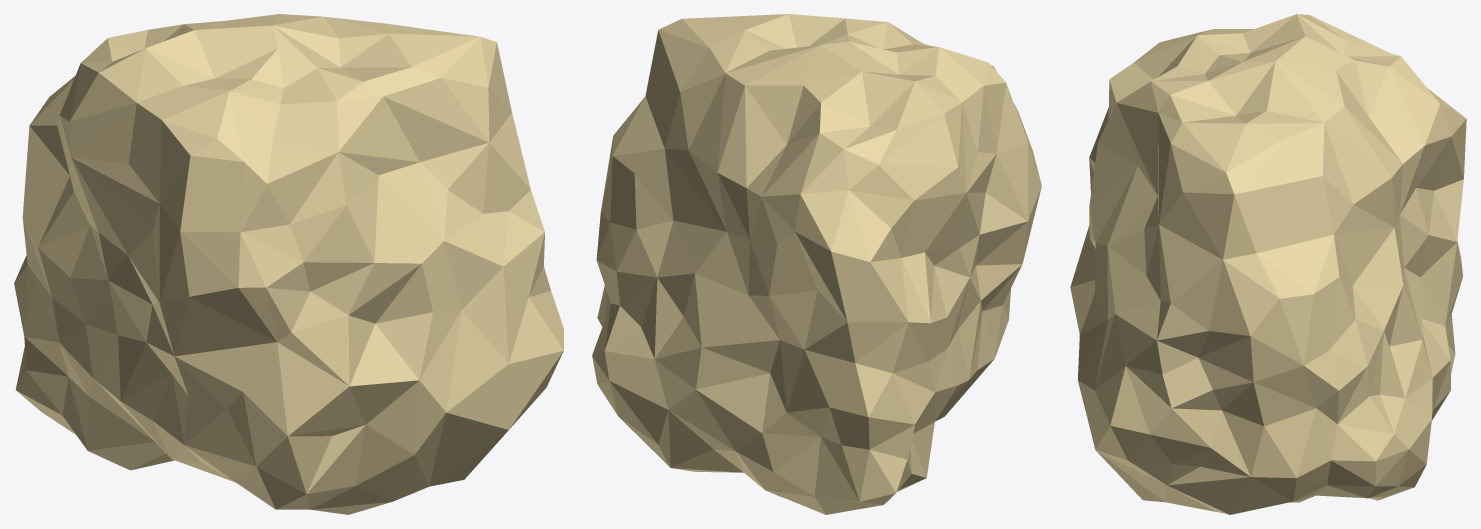
The model's file is Asteroid (42).fbx.
3 renders of one model, left to right at view 1: azimuth 30°, elevation 25°; view 2: azimuth 150°, elevation 25°; view 3: azimuth 270°, elevation 25°, orthographic. The views are drawn at different scales.
Visible parts, largest first — view 1: Asteroid201; view 2: Asteroid201; view 3: Asteroid201.
Boxes of the visible parts, x1=… form: Asteroid201: x1=14, y1=14, x2=563, y2=514; Asteroid201: x1=592, y1=14, x2=1041, y2=514; Asteroid201: x1=1070, y1=14, x2=1466, y2=514.
Bounding box in the file's own units: 368 × 378 × 334.
